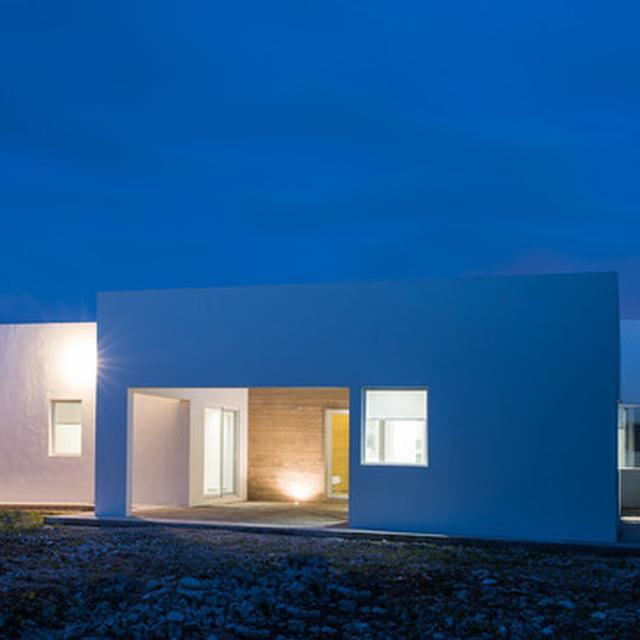building: (4, 270, 631, 550)
